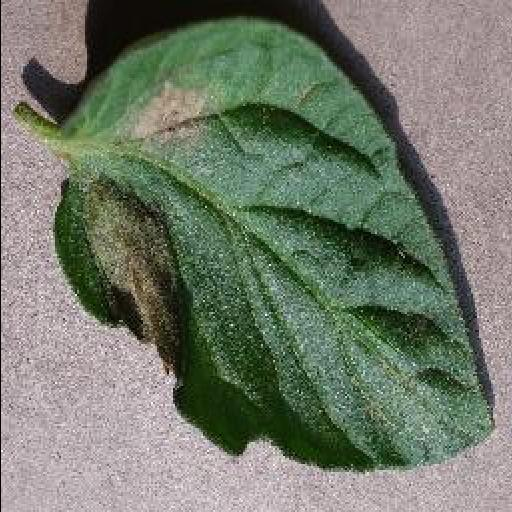disease_tomato: (49, 20, 499, 470)
